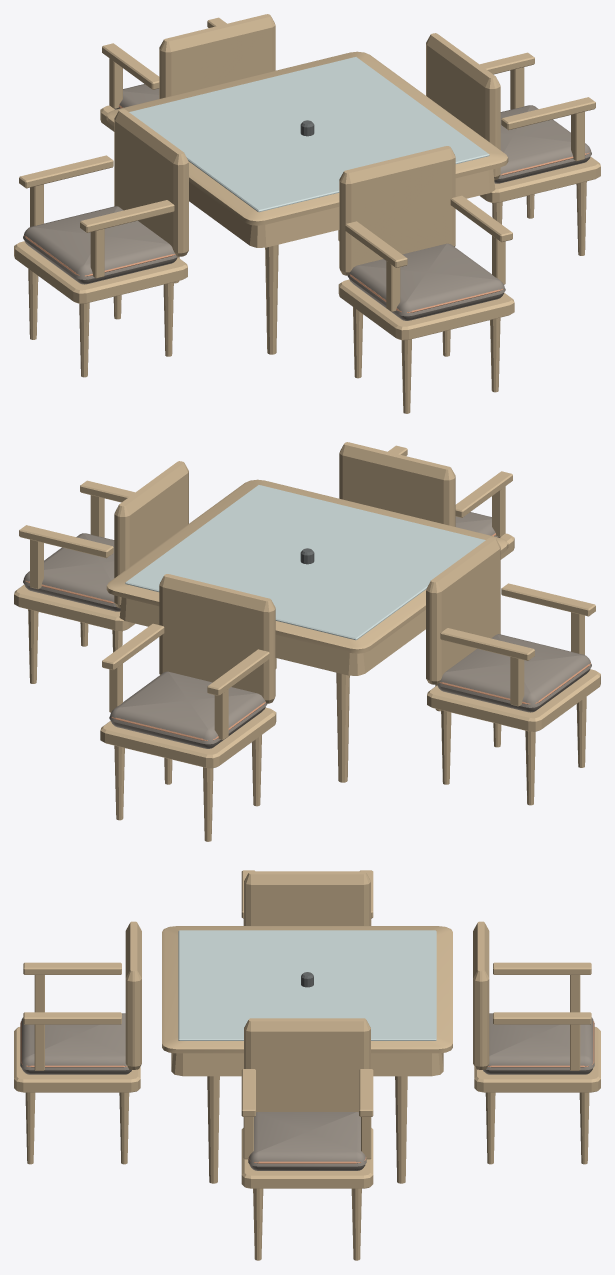
Rendered from garden-centre-and-florist-garden-furniture-set-495897ab__17778.glb.
3 views of the same model, one above another, from view 1: azimuth 30°, elevation 25°; view 2: azimuth 150°, elevation 25°; view 3: azimuth 270°, elevation 25° (orthographic). The views are drawn at different scales.
Visible parts, largest first — view 1: garden-furniture-set; view 2: garden-furniture-set; view 3: garden-furniture-set.
Part boxes in pixels (box(x1,y1,x2,y2)): garden-furniture-set: box(14, 14, 600, 413); garden-furniture-set: box(14, 442, 600, 841); garden-furniture-set: box(14, 870, 600, 1260).
Bounding box in the file's own units: 2.5 × 0.9199 × 2.5.
